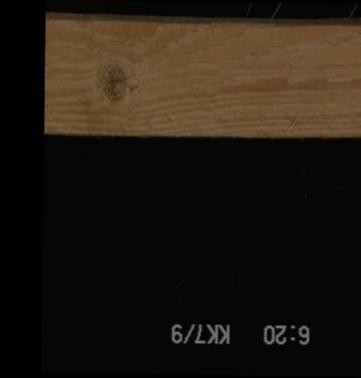sound_knot: (92, 57, 131, 108)
